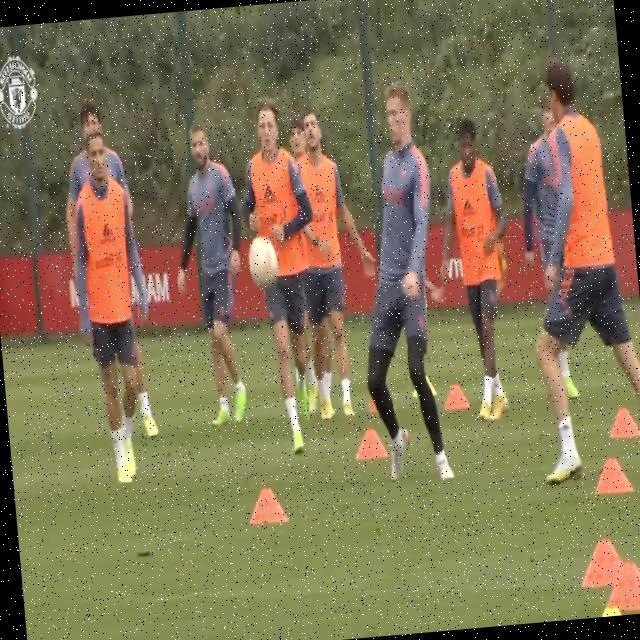Adidas: (260, 182, 278, 207), (310, 182, 328, 206), (459, 195, 477, 218), (99, 221, 115, 245)
